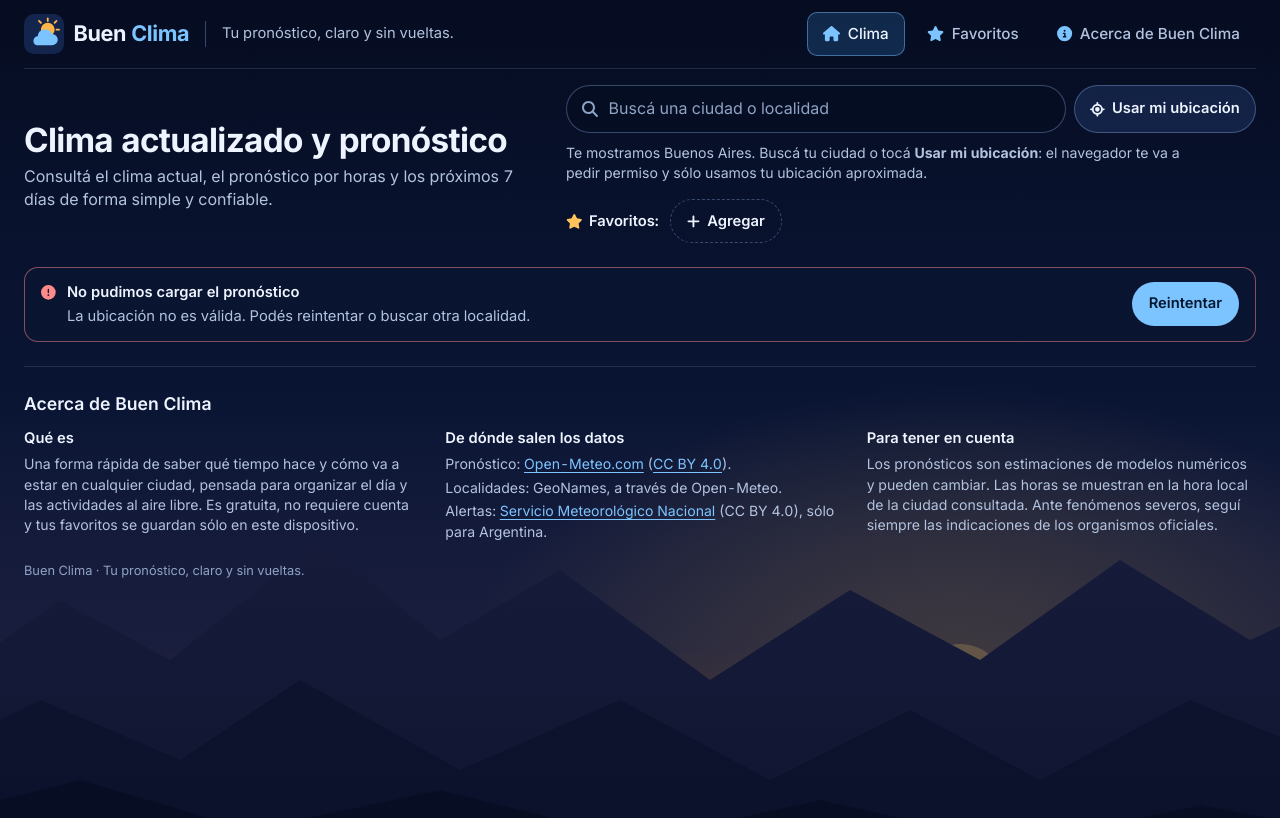
Test: App › error de API: mensaje contextual (sin modal) y reintento
Expected: the message shows "No pudimos cargar el pronóstico", [67, 283, 299, 301]
Click the button "Reintentar": (1185, 304) [1132, 282, 1239, 326]
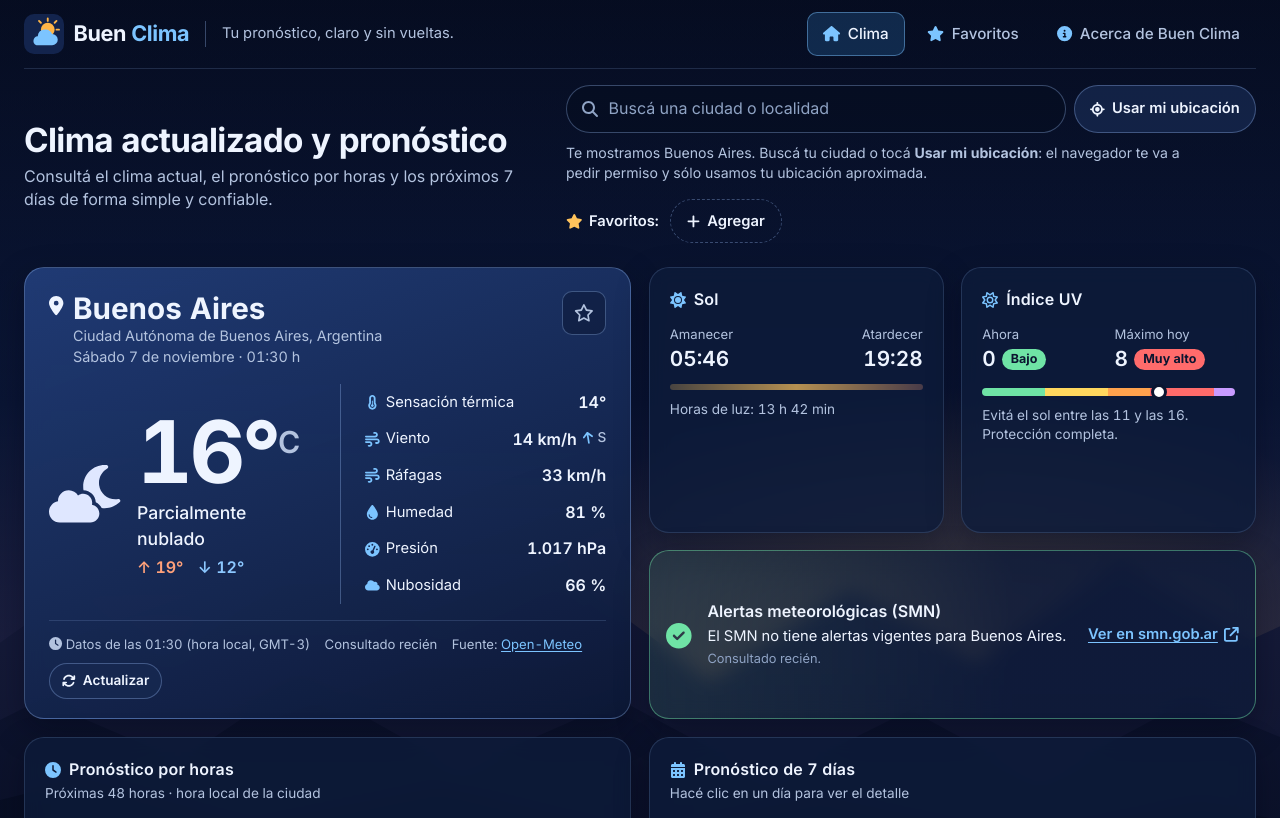
Now the heading "Buenos Aires" is shown, box [73, 290, 266, 326]
